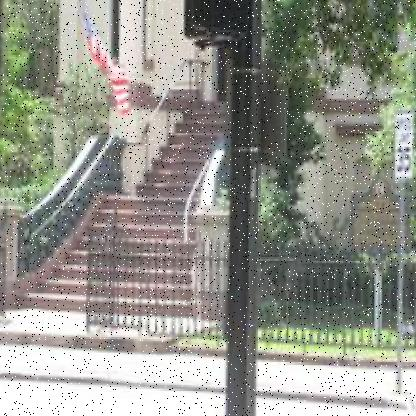stair_up: (20, 156, 214, 314)
